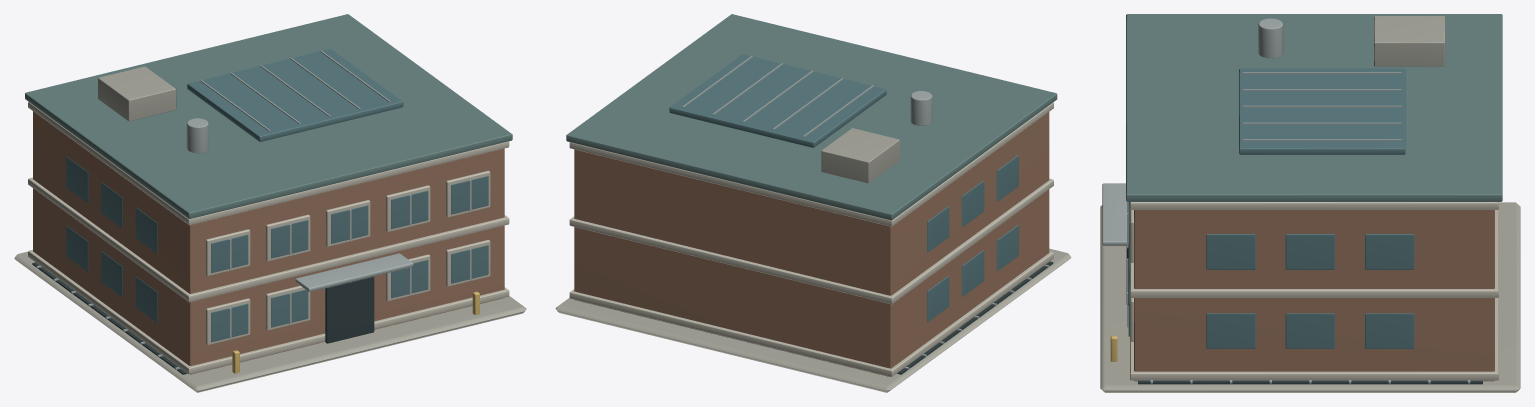
File: ServiceOffice.glb
3 views of the same model, side by side, from view 1: azimuth 30°, elevation 25°; view 2: azimuth 150°, elevation 25°; view 3: azimuth 270°, elevation 25° (orthographic). The views are drawn at different scales.
Parts seen in each view (by area): view 1: Office brickwork, Flat roof, Solar array, Service apron.002, Concrete band.001, Concrete band, Concrete band.002, Roof access, Entrance recess, Entrance canopy, Window glazing.003, Window glazing.008 (+24 smaller); view 2: Office brickwork, Flat roof, Solar array, Service apron.002, Concrete band.001, Concrete band, Concrete band.002, Roof access, Side window.002, Side window.003, Exhaust, Drain channel.004 (+4 smaller); view 3: Flat roof, Office brickwork, Solar array, Service apron.002, Concrete band, Concrete band.001, Roof access, Concrete band.002, Side window.008, Side window.009, Side window.006, Side window.007 (+9 smaller).
Boxes of the visible parts, box(x1,y1,x2,y2) form: Office brickwork: box(33, 111, 504, 374); Flat roof: box(25, 14, 512, 219); Solar array: box(187, 48, 403, 141); Service apron.002: box(14, 251, 526, 392); Concrete band.001: box(28, 177, 509, 302); Concrete band: box(28, 249, 509, 374); Concrete band.002: box(28, 102, 509, 225); Roof access: box(98, 66, 176, 121); Entrance recess: box(325, 276, 374, 343); Entrance canopy: box(295, 253, 413, 291); Window glazing.003: box(271, 220, 308, 258); Window glazing.008: box(451, 245, 488, 283); Office brickwork: box(574, 112, 1049, 376); Flat roof: box(566, 14, 1057, 220); Solar array: box(669, 54, 886, 147); Service apron.002: box(555, 248, 1071, 392); Concrete band.001: box(569, 178, 1053, 304); Concrete band: box(569, 251, 1053, 376); Concrete band.002: box(569, 102, 1053, 226); Roof access: box(821, 128, 899, 183); Side window.002: box(961, 250, 984, 296); Side window.003: box(961, 180, 984, 227); Exhaust: box(910, 91, 932, 126); Drain channel.004: box(897, 261, 1053, 374); Flat roof: box(1126, 14, 1502, 201); Office brickwork: box(1134, 210, 1494, 381); Solar array: box(1239, 68, 1405, 154); Service apron.002: box(1100, 202, 1520, 392); Concrete band: box(1130, 297, 1498, 380); Concrete band.001: box(1130, 209, 1498, 297); Roof access: box(1374, 16, 1445, 66); Concrete band.002: box(1130, 202, 1498, 209); Side window.008: box(1285, 313, 1335, 348); Side window.009: box(1285, 234, 1335, 269); Side window.006: box(1206, 313, 1255, 348); Side window.007: box(1206, 234, 1255, 269).
Bounding box in the file's own units: 11.1 × 6.35 × 10.6.
